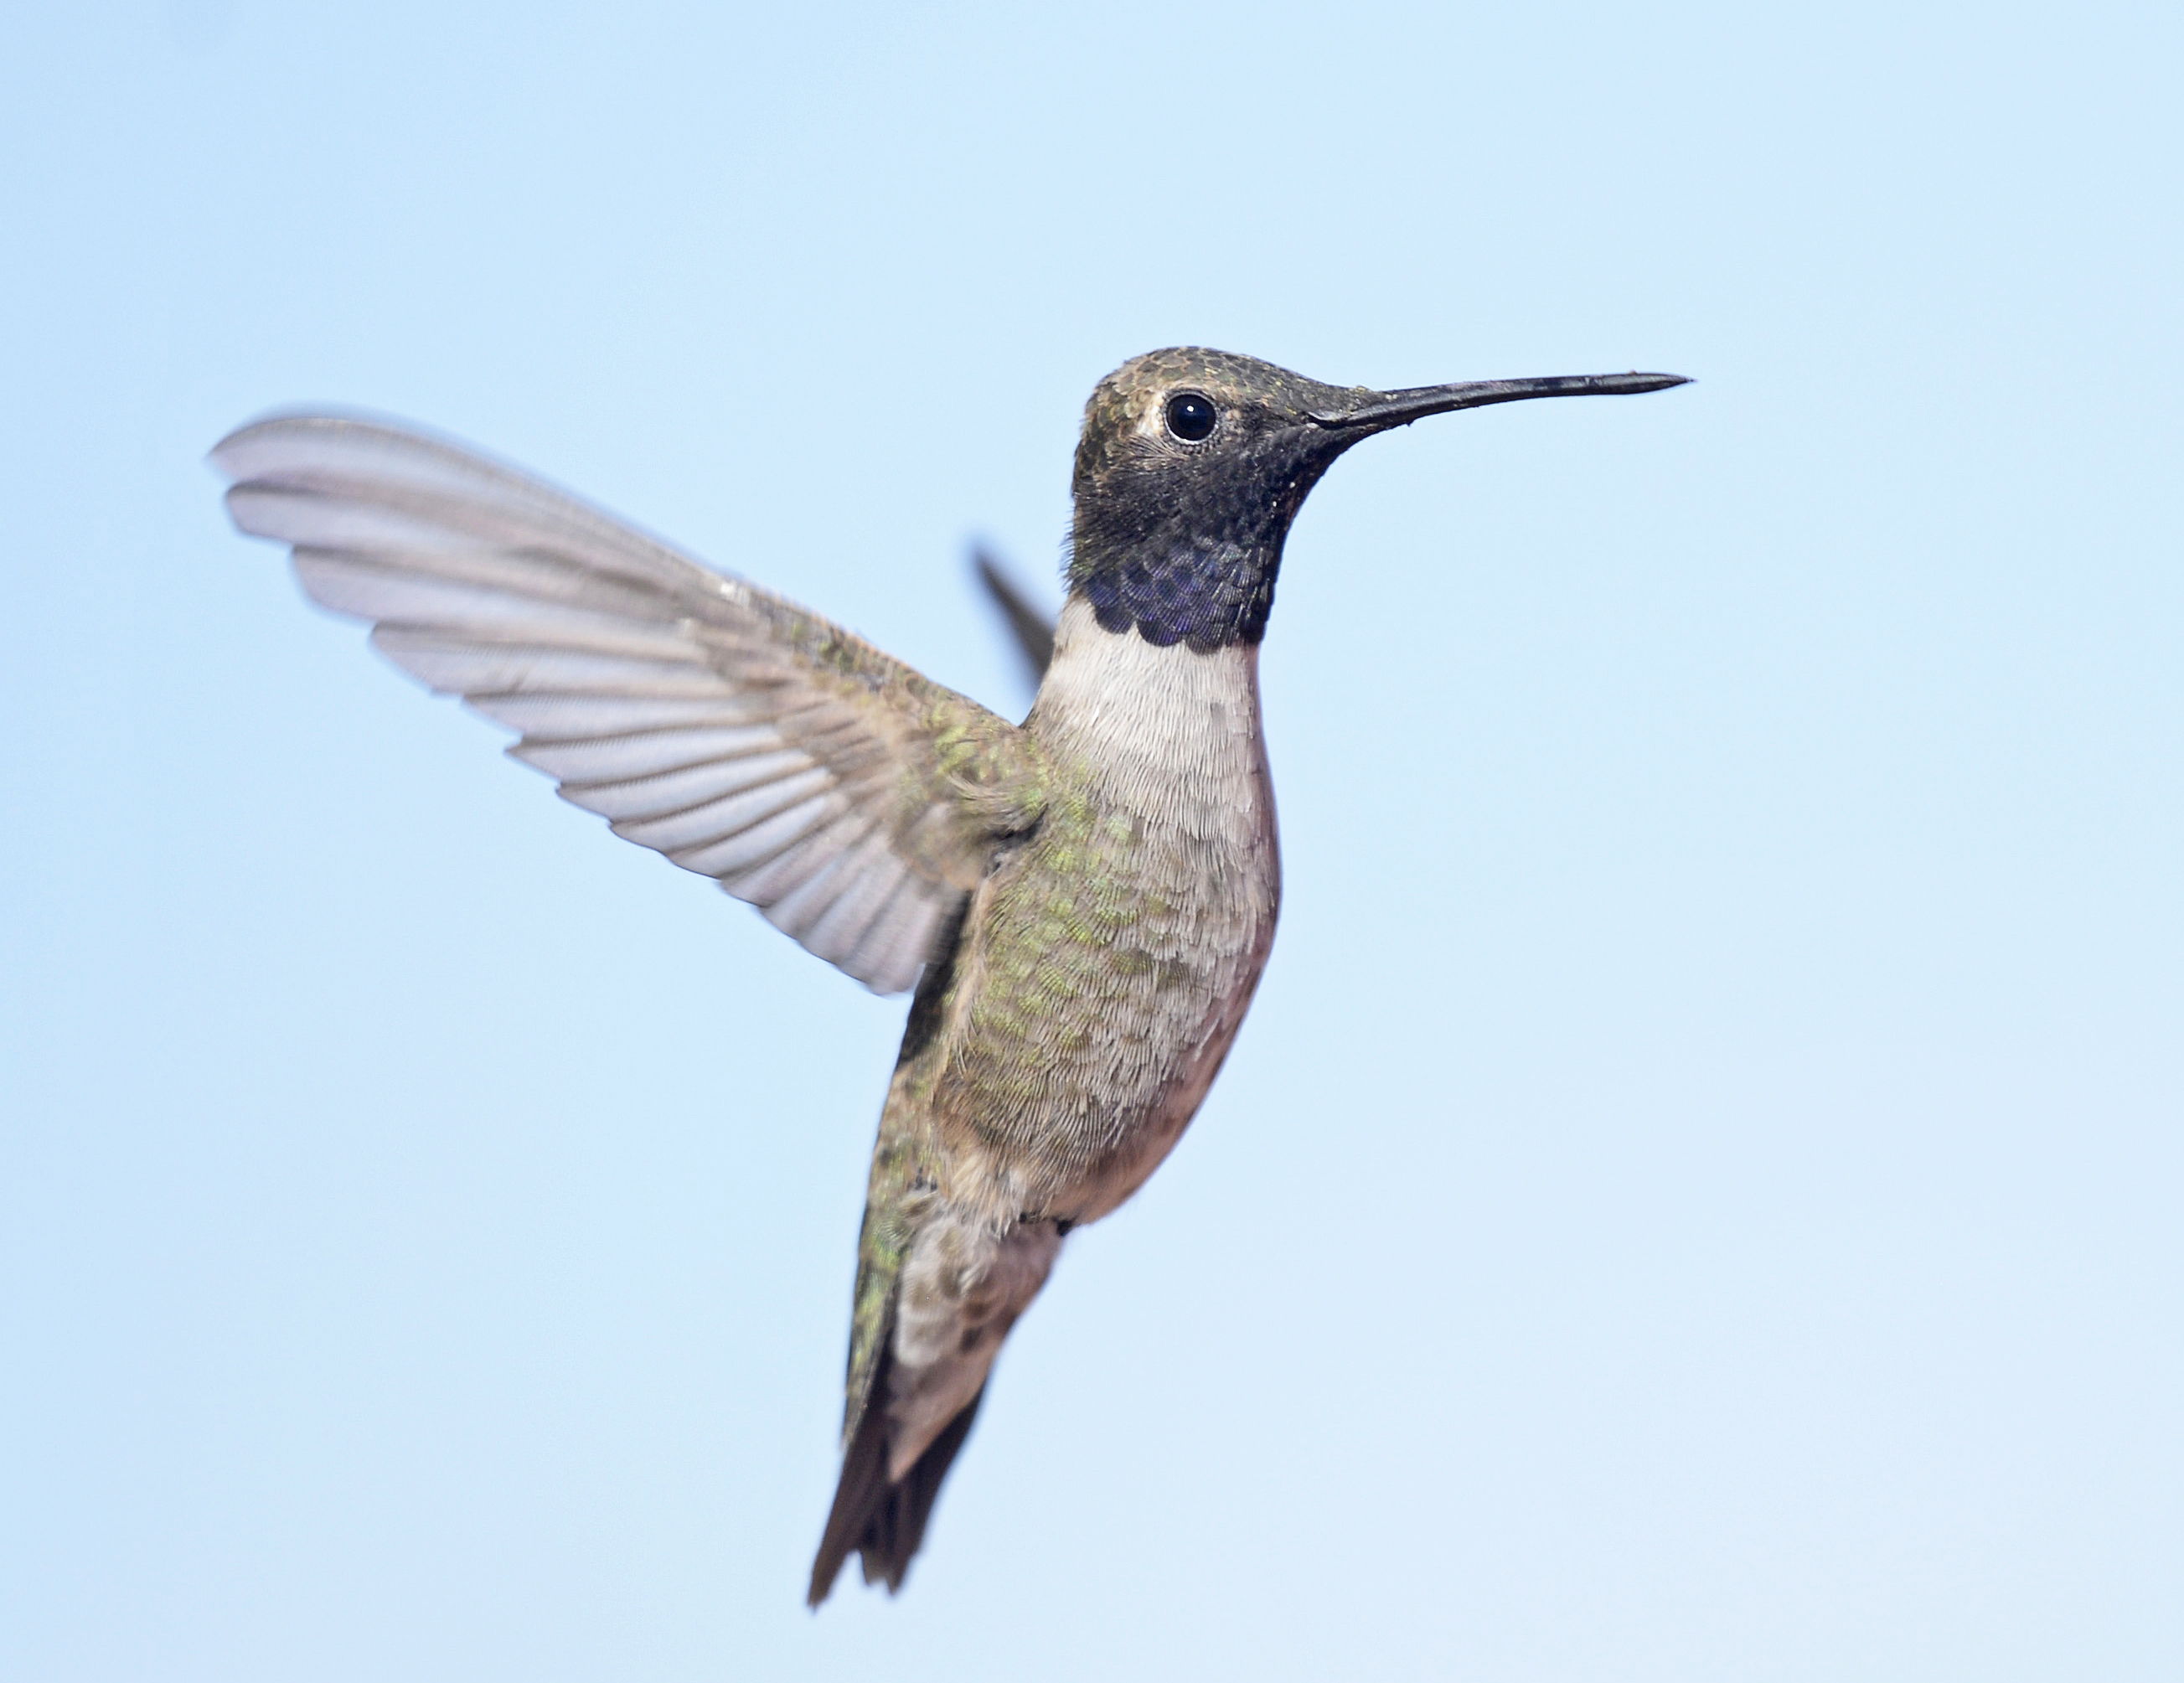archilochus alexandri: (207, 352, 1691, 1611)
